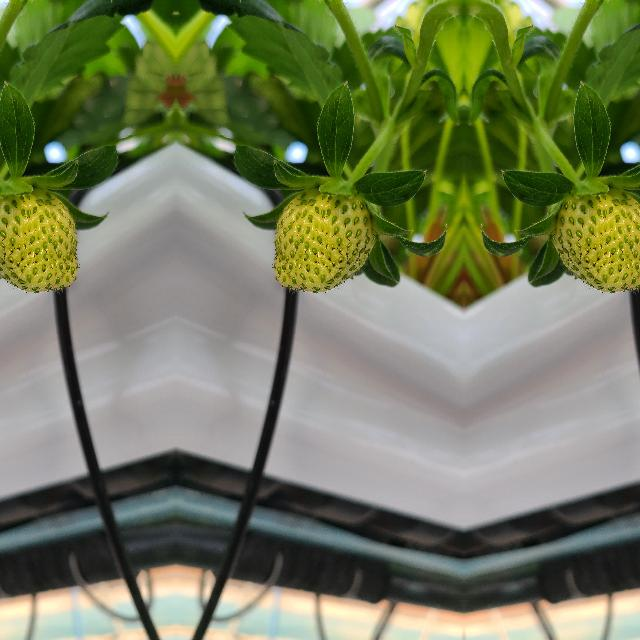Health_25: (270, 188, 376, 296), (550, 188, 640, 295), (0, 188, 79, 295)
